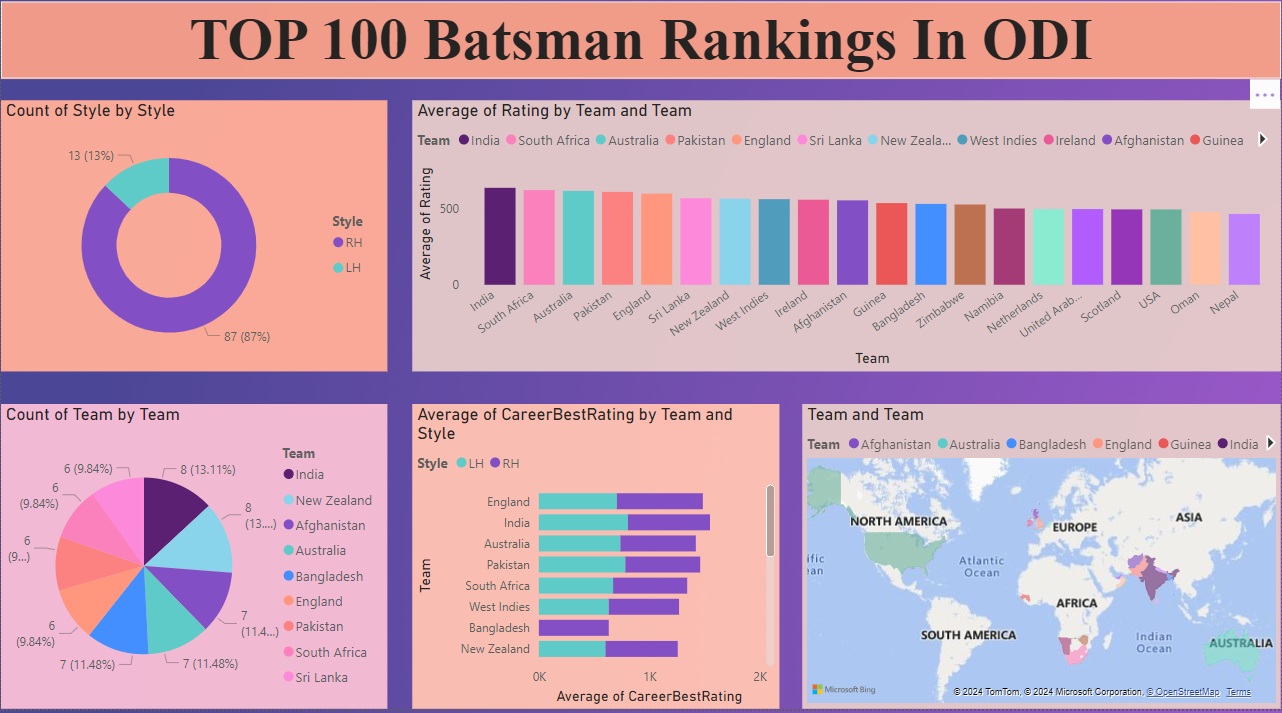

The page's visual inventory and layout, read from the dashboard file:
{"tool":"powerbi","page":{"name":"TOP 100 Rankings in ODI","canvas":[1280,720],"ordinal":0},"visuals":[{"type":"donutChart","fields":{"Y":["CountNonNull(ODI_batting.Style)"],"Category":["ODI_batting.Style"]},"box":[0,111.2,386.2,271.2],"z":0},{"type":"columnChart","fields":{"Category":["ODI_batting.Team"],"Y":["Avg(ODI_batting.Rating)"],"Series":["ODI_batting.Team"]},"box":[411.2,111.2,868.8,271.2],"z":1000},{"type":"pieChart","fields":{"Category":["ODI_batting.Team"],"Y":["CountNonNull(ODI_batting.Team)"]},"box":[0,415,386.2,305],"z":2000},{"type":"barChart","fields":{"Category":["ODI_batting.Team"],"Y":["Avg(ODI_batting.CareerBestRating)"],"Series":["ODI_batting.Style"]},"box":[411.2,415,367.5,305],"z":3000},{"type":"filledMap","fields":{"Series":["ODI_batting.Team"],"Category":["ODI_batting.Team"]},"box":[801.2,415,478.8,305],"z":4000},{"type":"textbox","box":[0,12.5,1280,77.5],"z":5000}]}

Visuals, with their boxes in screenshot pixels (x1, y1, x2, y2), scaled from the page's 1280x720 canvas onto the 1282x713 screenshot:
donutChart - CountNonNull(ODI_batting.Style) x ODI_batting.Style: [x1=0, y1=110, x2=387, y2=379]
columnChart - ODI_batting.Team x Avg(ODI_batting.Rating): [x1=412, y1=110, x2=1281, y2=379]
pieChart - ODI_batting.Team x CountNonNull(ODI_batting.Team): [x1=0, y1=411, x2=387, y2=712]
barChart - ODI_batting.Team x Avg(ODI_batting.CareerBestRating): [x1=412, y1=411, x2=780, y2=712]
filledMap - ODI_batting.Team x ODI_batting.Team: [x1=802, y1=411, x2=1281, y2=712]
textbox: [x1=0, y1=12, x2=1281, y2=89]
